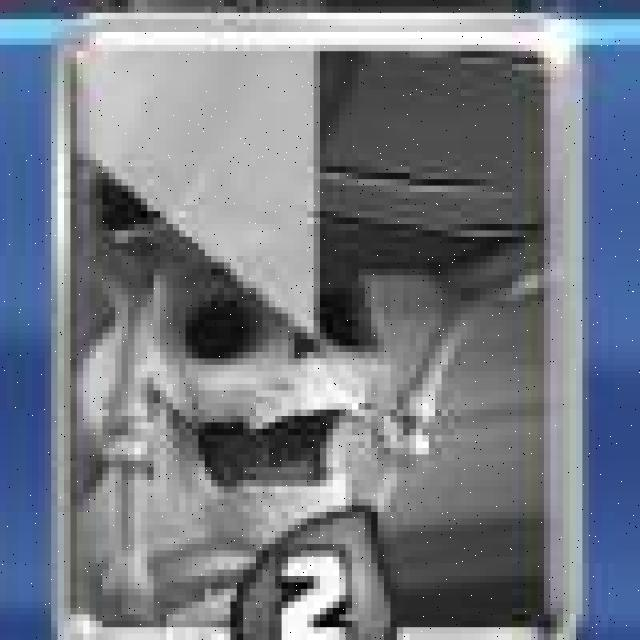Wall_Breakers: (53, 12, 588, 640)
